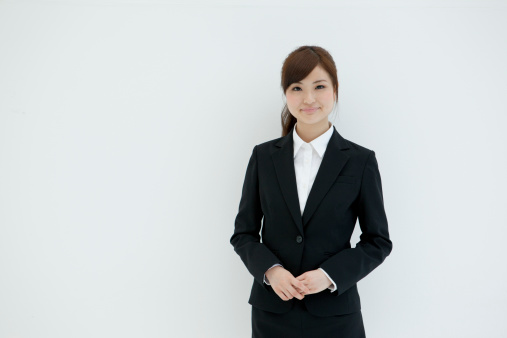em pe: (210, 47, 415, 338)
